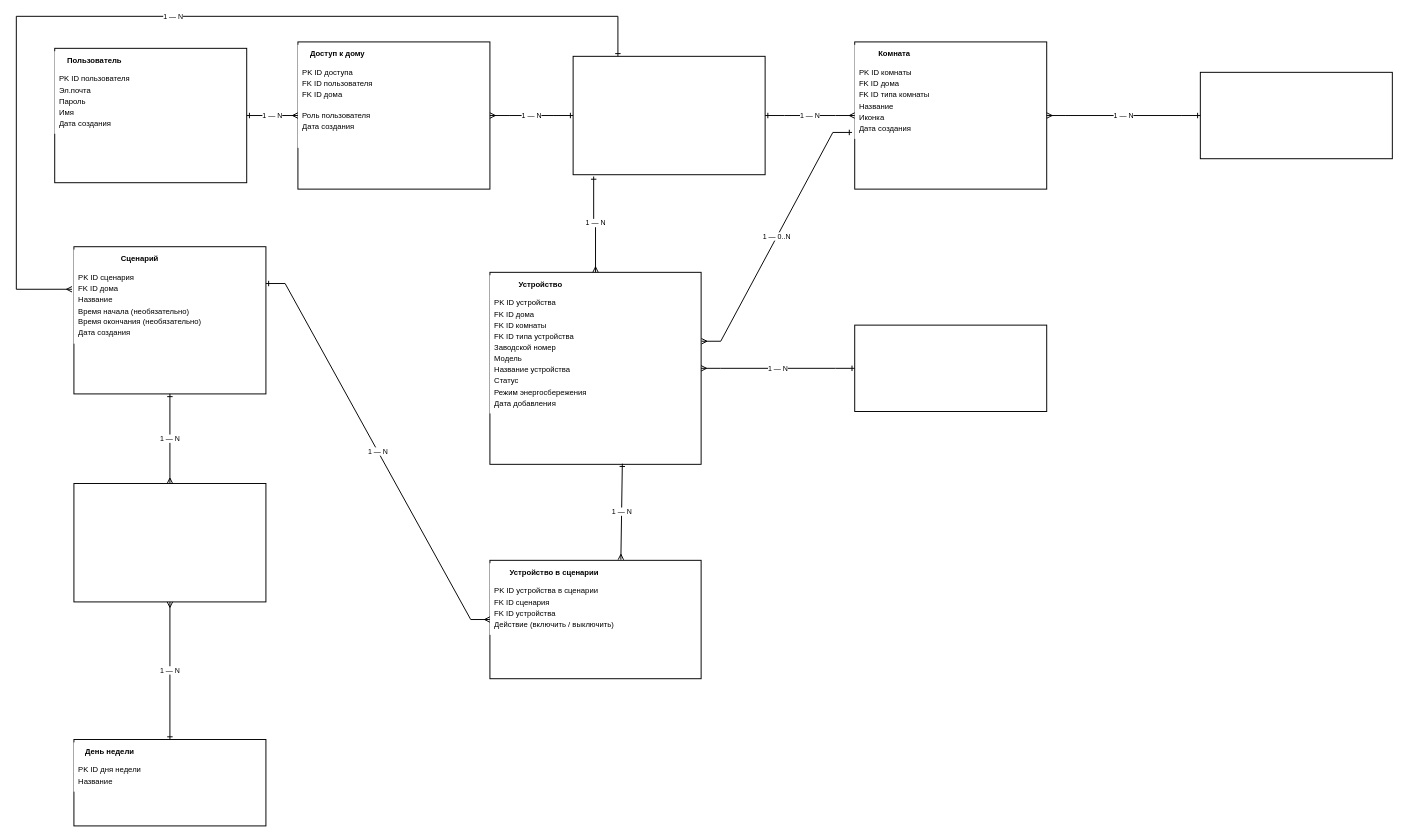
Image size: 1404x838. Some labels were removed from this diagram. Here are the shapes that lost their labels. From the top down, the centre of each, then its label:
the point at 668,115: Дом PK ID дома Название Адрес Дата создания
the point at 1296,115: Тип комнаты PK Идентификатор типа комнаты Название
the point at 950,368: Тип устройства PK ID типа устройства Название
the point at 169,542: День недели в сценарии PK ID дня в сценарии FK ID сценария FK ID дня недели
